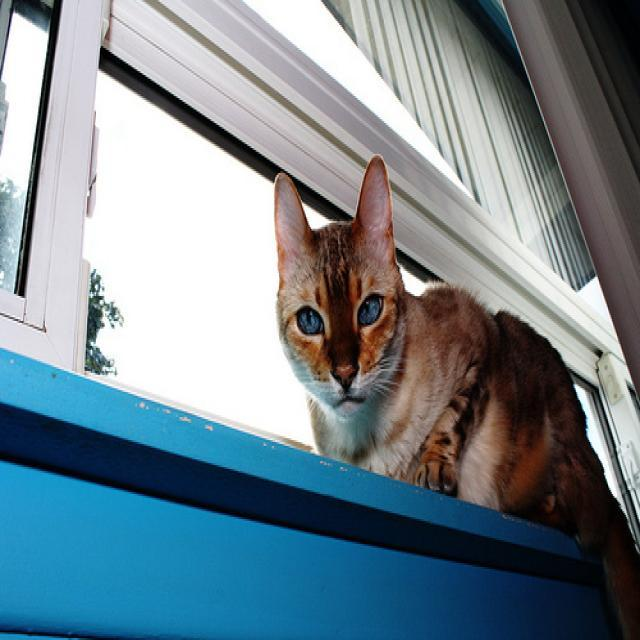Bengal: (270, 157, 410, 420)
